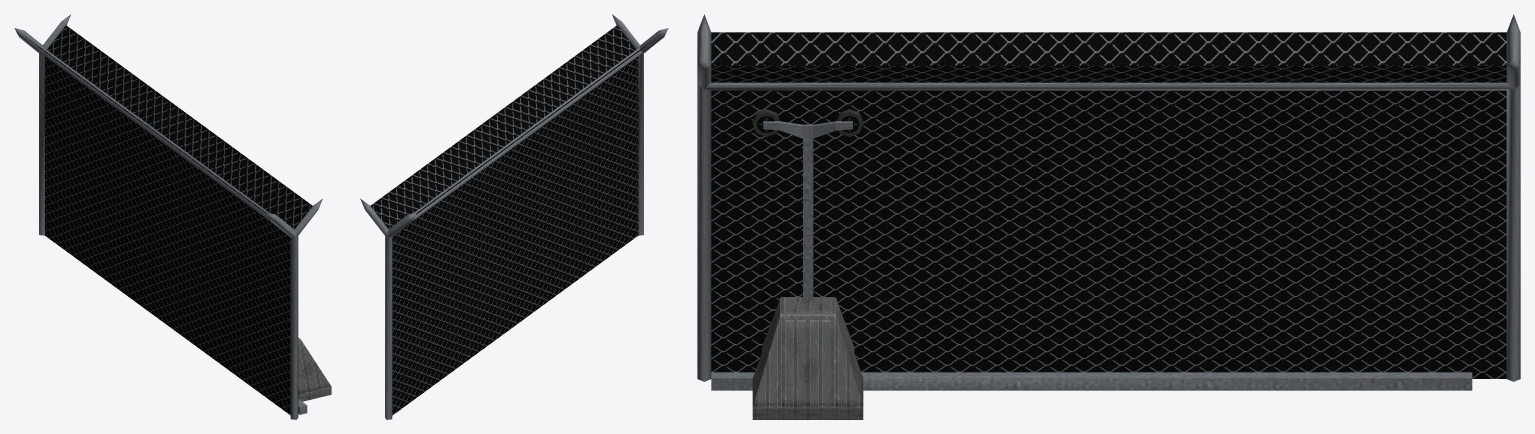
The model's file is M10_Zone2_MainGate1A.glb.
3 renders of one model, left to right at view 1: azimuth 30°, elevation 25°; view 2: azimuth 150°, elevation 25°; view 3: azimuth 270°, elevation 25°, orthographic. The views are drawn at different scales.
Visible parts, largest first — view 1: M10_ZONE2_MAINGATE1A; view 2: M10_ZONE2_MAINGATE1A; view 3: M10_ZONE2_MAINGATE1A.
Part boxes in pixels (x1,y1,x2,y2): M10_ZONE2_MAINGATE1A: (14, 14, 331, 419); M10_ZONE2_MAINGATE1A: (360, 14, 668, 419); M10_ZONE2_MAINGATE1A: (697, 14, 1520, 419).
Size of the model in its own units: 1.35 by 3.42 by 7.44.
4 materials, 4 textured.
